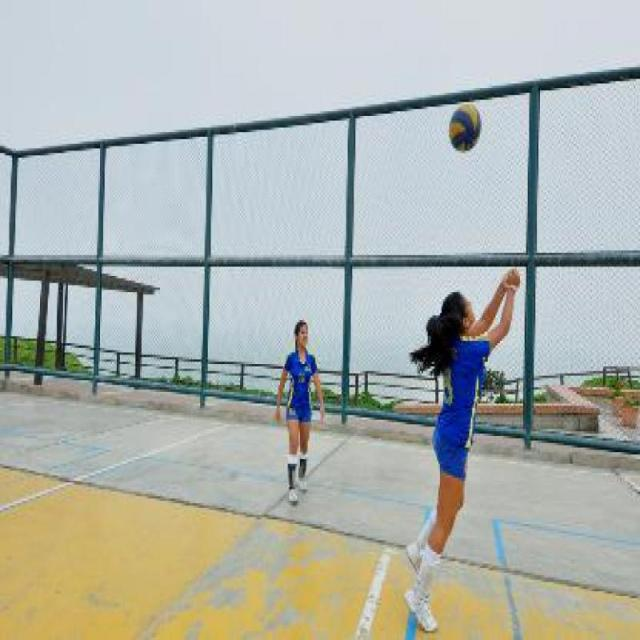volleyball: (448, 102, 482, 151)
